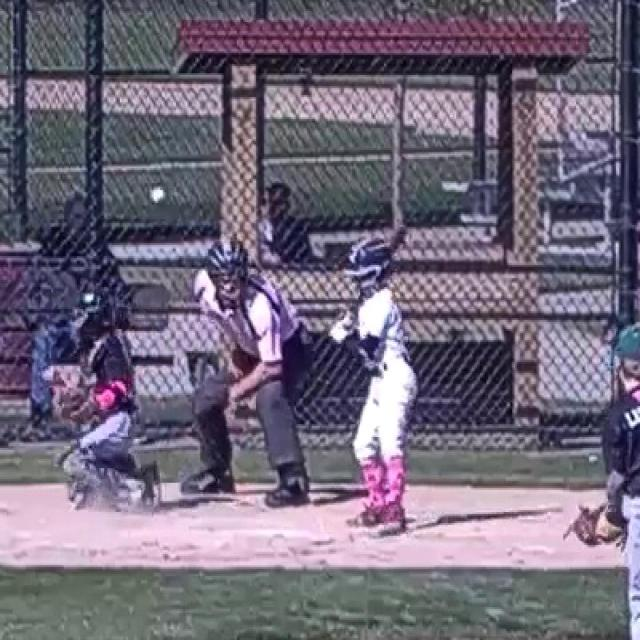baseball: (151, 188, 165, 202)
